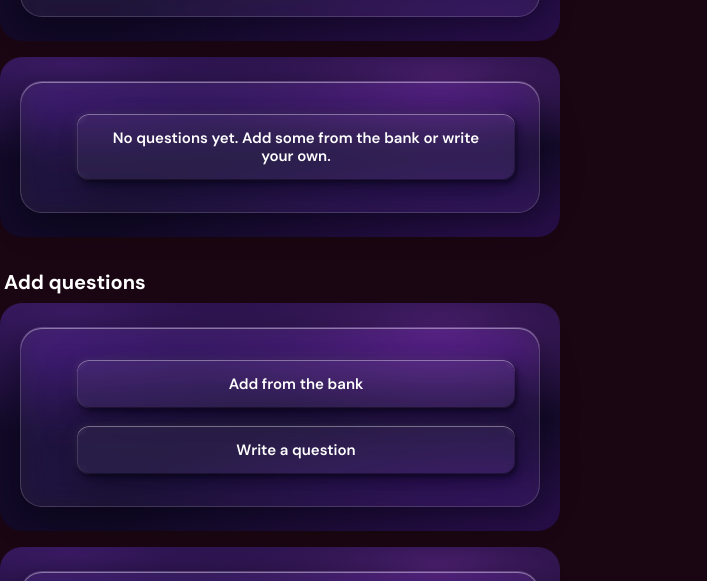
Test: QuizBuilder › says so when no bank question matches the filters
This screenshot has width=707, height=581.
(page scrolled)
Click the button "Add from the bank": (296,384) [77,360,515,408]
(page scrolled)
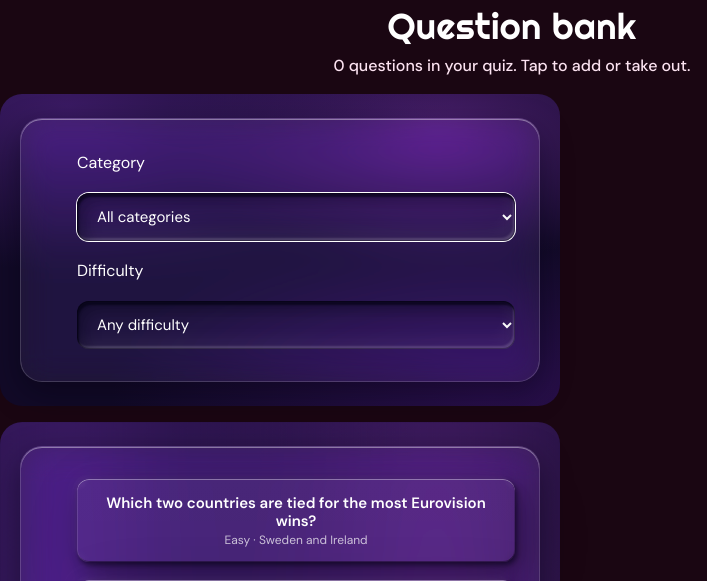
// The bank has no hard spectacle questions.
Select "Costumes & spectacle" in the dropdown labelled "Category": (296,217) [77,193,515,241]
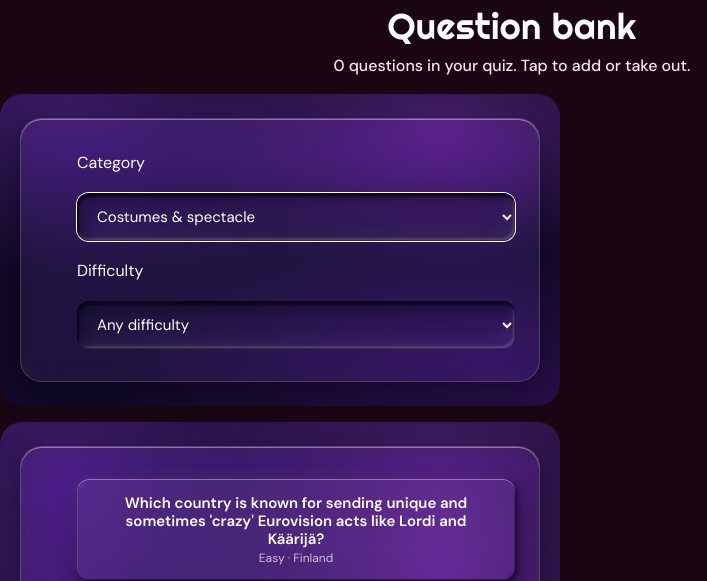
Select "Hard" in the dropdown labelled "Difficulty": (296,325) [77,301,515,349]
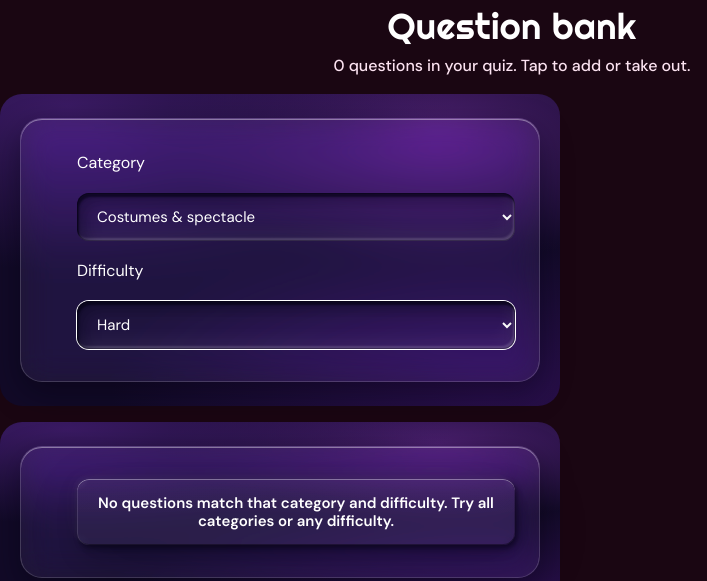
Check: the text "No questions match that category and difficulty" is shown, box [98,493,494,531]
